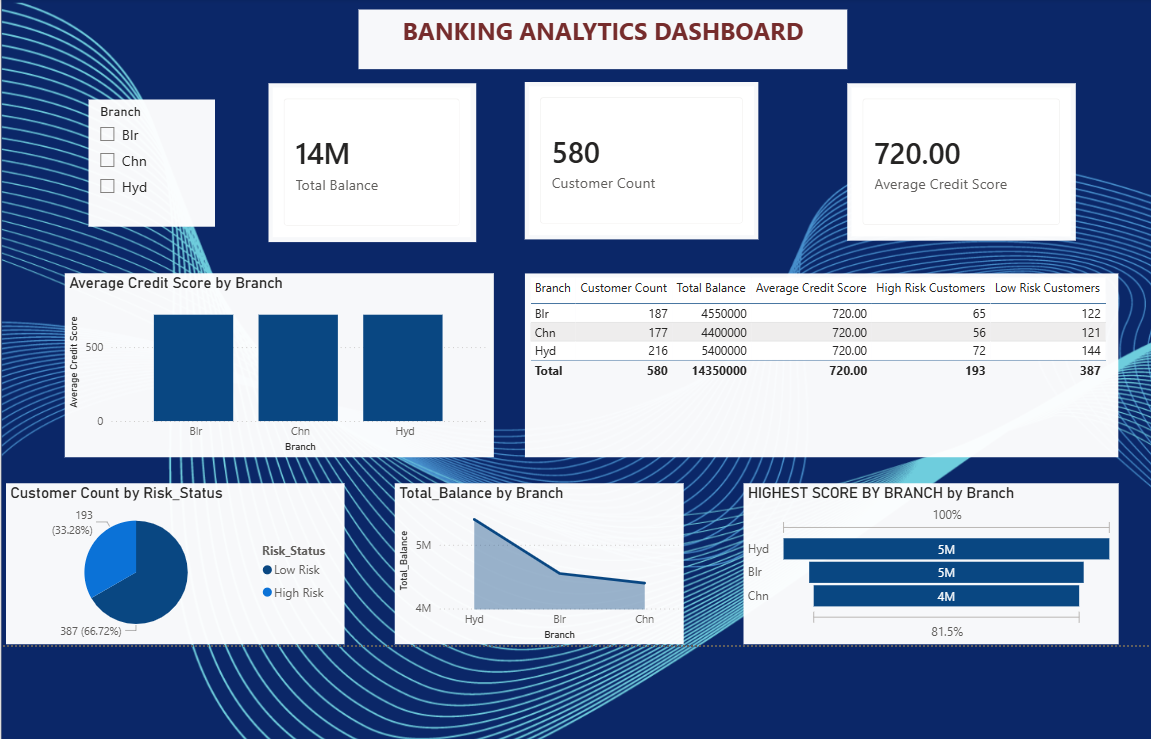

The page's visual inventory and layout, read from the dashboard file:
{"tool":"powerbi","page":{"name":"Page 3","canvas":[1280,720],"ordinal":2},"visuals":[{"type":"cardVisual","fields":{"Data":["Dirty_Banking_Analytics_800.Total Balance"]},"box":[297.7,96,231,176.7],"z":0},{"type":"cardVisual","fields":{"Data":["Dirty_Banking_Analytics_800.Average Credit Score"]},"box":[913.9,95.8,309.7,175],"z":1},{"type":"cardVisual","fields":{"Data":["Dirty_Banking_Analytics_800.Customer Count"]},"box":[583.3,94.4,309.7,175],"z":2},{"type":"slicer","fields":{"Values":["Dirty_Banking_Analytics_800.Branch"]},"box":[18.1,105.6,245.8,163.9],"z":4},{"type":"clusteredColumnChart","fields":{"Category":["Dirty_Banking_Analytics_800.Branch"],"Y":["Dirty_Banking_Analytics_800.Average Credit Score"]},"box":[18.1,306.9,530.6,205.6],"z":6},{"type":"pieChart","fields":{"Category":["Dirty_Banking_Analytics_800.Risk_Status"],"Y":["Dirty_Banking_Analytics_800.Customer Count"]},"box":[5.6,541.2,377,179.5],"z":7},{"type":"tableEx","fields":{"Values":["Dirty_Banking_Analytics_800.Branch","Dirty_Banking_Analytics_800.Customer Count","Dirty_Banking_Analytics_800.Total Balance","Dirty_Banking_Analytics_800.Average Credit Score","Dirty_Banking_Analytics_800.High Risk Customers","Dirty_Banking_Analytics_800.Low Risk Customers"]},"box":[583,307.5,660.9,204.5],"z":8},{"type":"textbox","box":[18.1,13.9,1226.4,66.7],"z":9},{"type":"stackedAreaChart","fields":{"Category":["Dirty_Banking_Analytics_800.Branch"],"Y":["Dirty_Banking_Analytics_800.Total_Balance"]},"box":[438.3,541.2,321.4,179.5],"z":11},{"type":"funnel","fields":{"Category":["Dirty_Banking_Analytics_800.Branch"],"Y":["Dirty_Banking_Analytics_800.HIGHEST SCORE BY BRANCH"]},"box":[826.4,541.7,418.1,177.8],"z":12}]}

Visuals, with their boxes on the page's 1280x720 design canvas (x1, y1, x2, y2). These are canvas units, not pixel positions in the 1151x739 screenshot, which may show the page scaled, cropped or inside an application window:
cardVisual - Dirty_Banking_Analytics_800.Total Balance: l=298, t=96, r=529, b=273
cardVisual - Dirty_Banking_Analytics_800.Average Credit Score: l=914, t=96, r=1224, b=271
cardVisual - Dirty_Banking_Analytics_800.Customer Count: l=583, t=94, r=893, b=269
slicer - Dirty_Banking_Analytics_800.Branch: l=18, t=106, r=264, b=270
clusteredColumnChart - Dirty_Banking_Analytics_800.Branch x Dirty_Banking_Analytics_800.Average Credit Score: l=18, t=307, r=549, b=512
pieChart - Dirty_Banking_Analytics_800.Risk_Status x Dirty_Banking_Analytics_800.Customer Count: l=6, t=541, r=383, b=721
tableEx - Dirty_Banking_Analytics_800.Branch x Dirty_Banking_Analytics_800.Customer Count: l=583, t=308, r=1244, b=512
textbox: l=18, t=14, r=1244, b=81
stackedAreaChart - Dirty_Banking_Analytics_800.Branch x Dirty_Banking_Analytics_800.Total_Balance: l=438, t=541, r=760, b=721
funnel - Dirty_Banking_Analytics_800.Branch x Dirty_Banking_Analytics_800.HIGHEST SCORE BY BRANCH: l=826, t=542, r=1244, b=720
